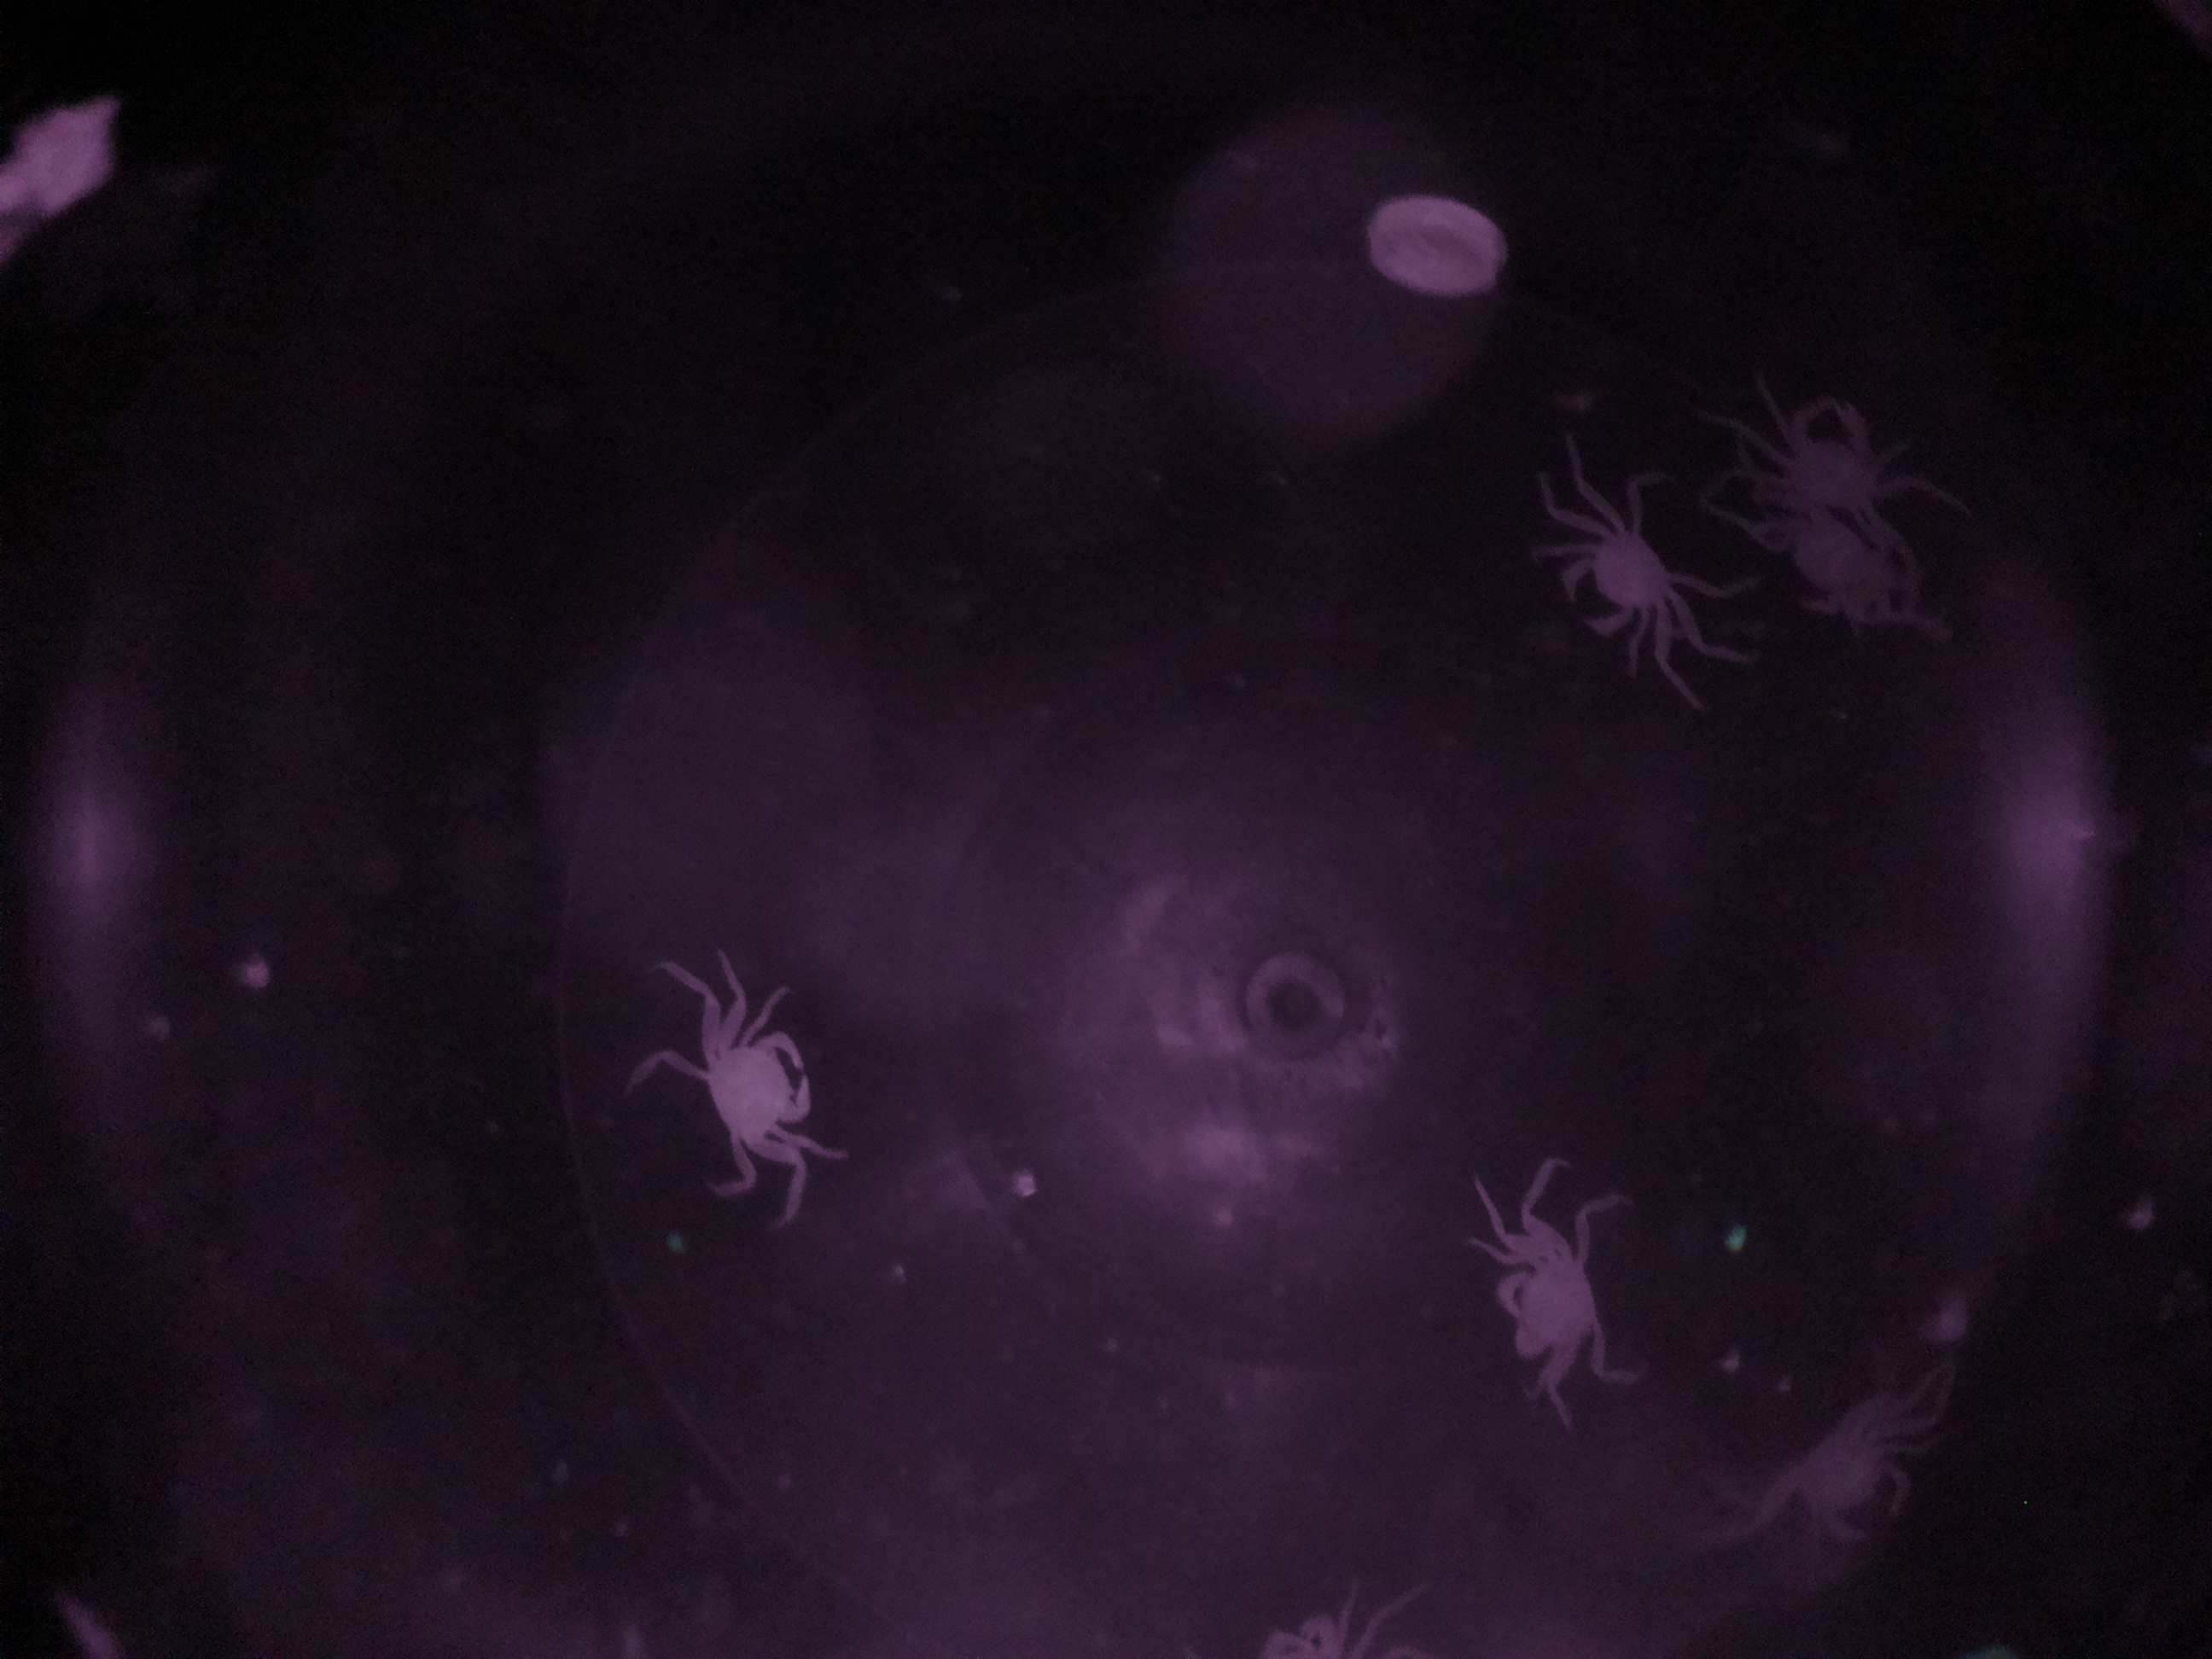Crab: (1480, 1183, 1632, 1394), (1547, 467, 1686, 694), (672, 995, 843, 1175)
